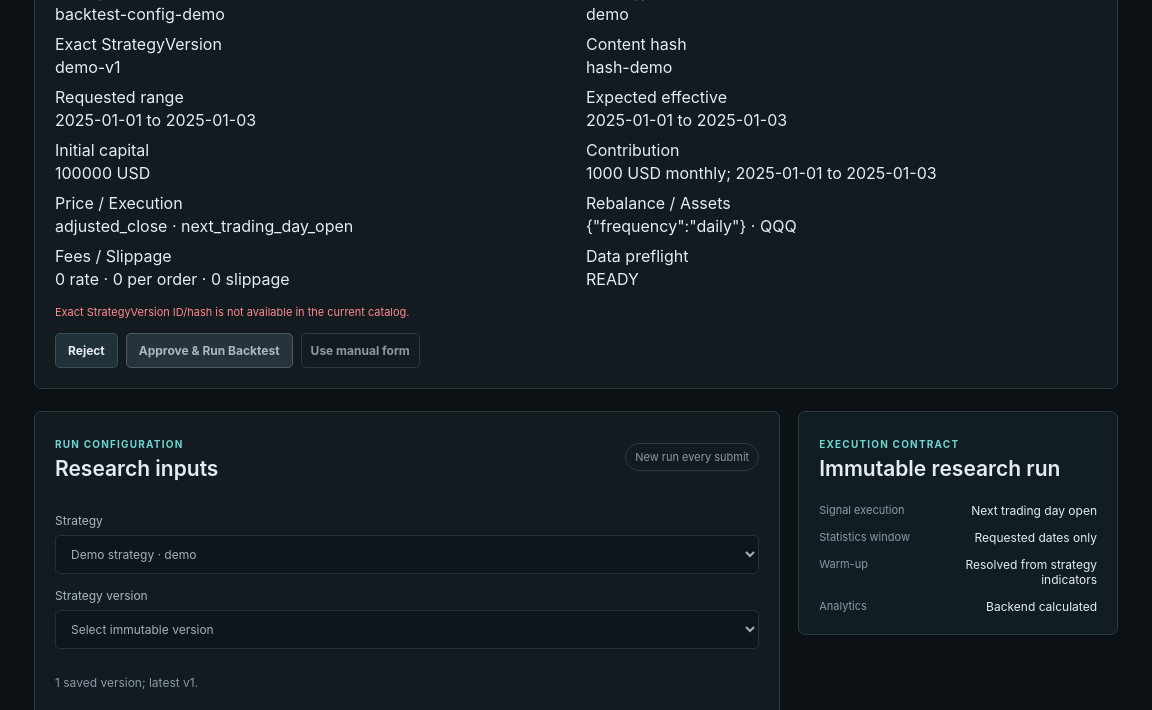
Scenario: Backtest Lab › rejects without a run and approves a new proposal with one browser action
The width and height of the screenshot is (1152, 710).
(page scrolled)
What coordinates should you click on to do the following:
click the button "Reject"
I would click on:
 (86, 350)
Its box is [55,333,118,368].
(page scrolled)
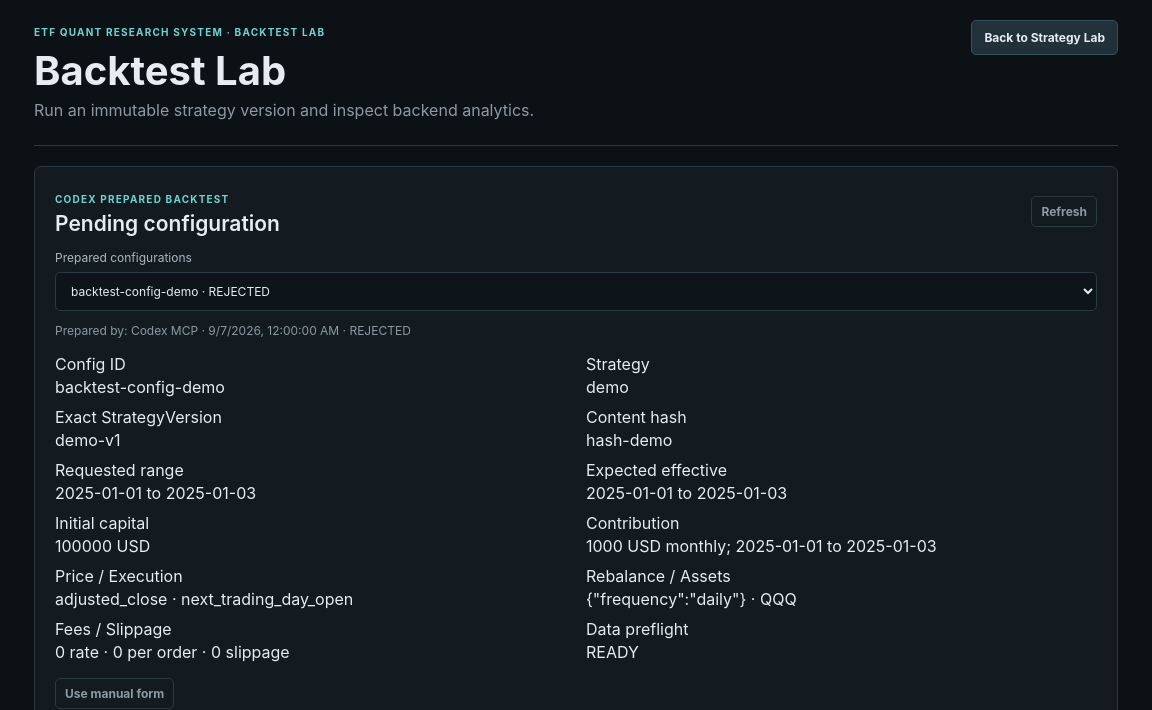
Expected: the text "Prepared by: Codex MCP · 9/7/2026, 12:00:00 AM · REJECTED" is shown, [55,323,411,338]
Expected: the button "Approve & Run Backtest" is gone
